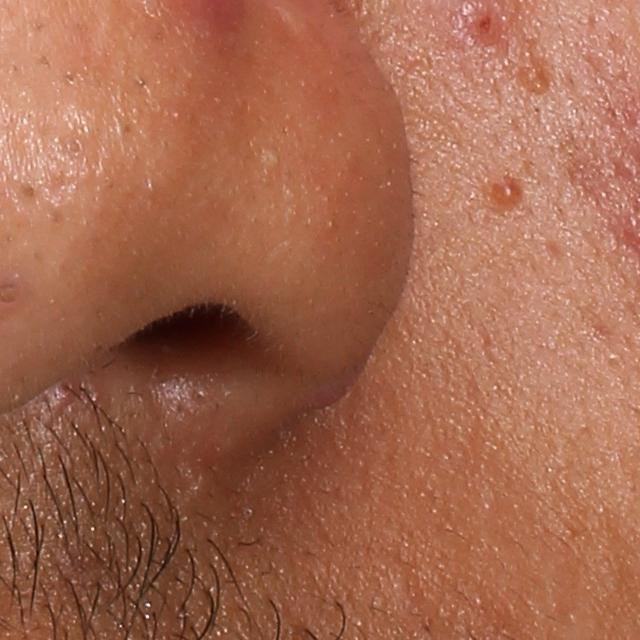comedo: (261, 149, 286, 170), (17, 181, 37, 201)
